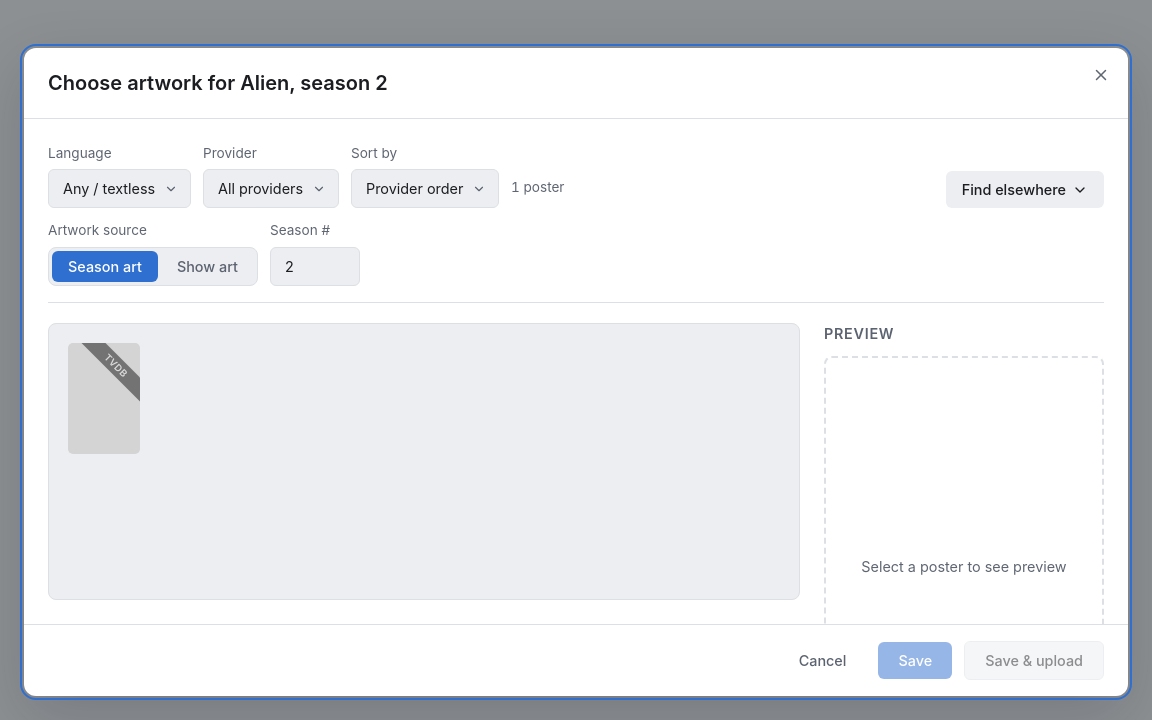
Test: PosterBrowserModal — filling the grid › browses season artwork, and switches to show art on demand
Click the button "Show art".
click(207, 266)  # box [161,251,254,282]
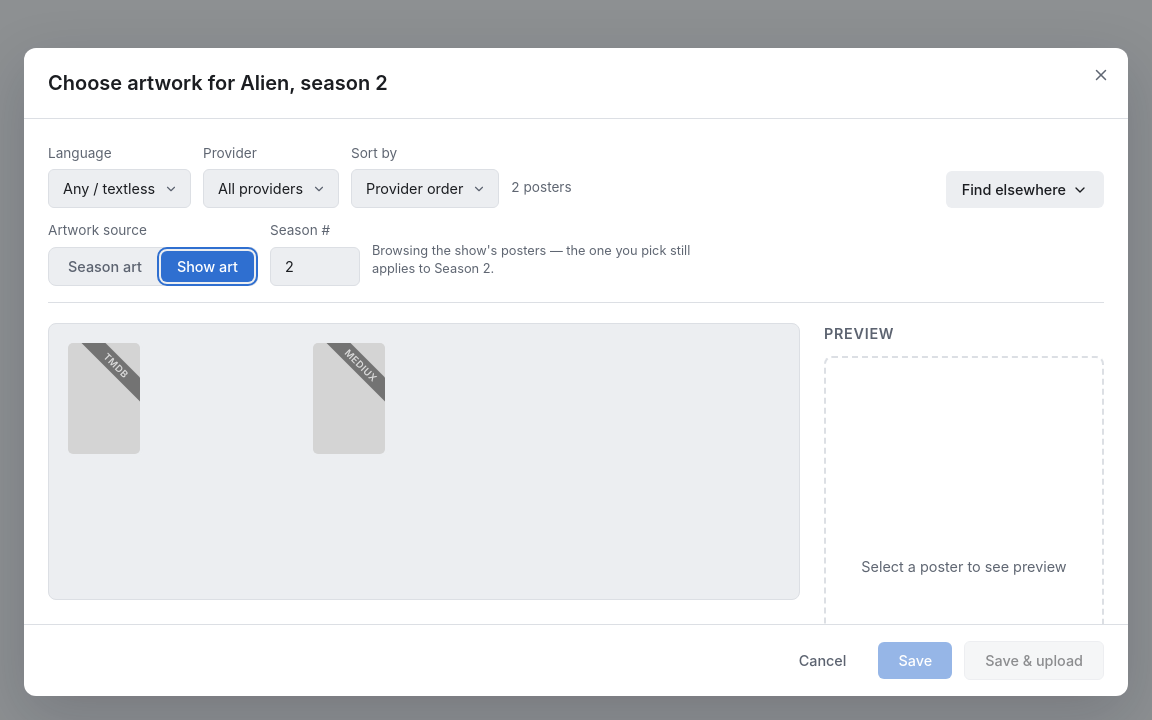
Result: the text "still applies to Season 2" is shown at [372,242,692,278]
